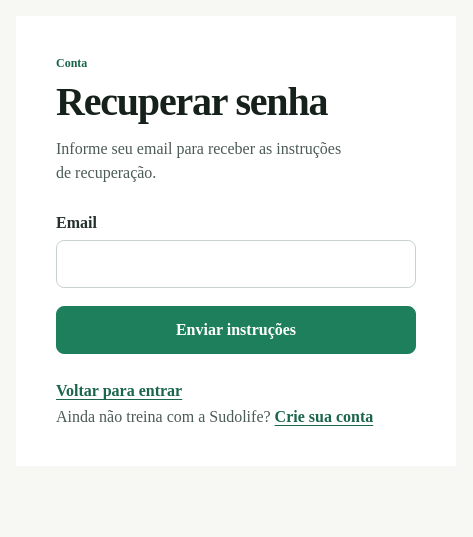
Test: PasswordRecoveryRequestComponent › should_not_show_account_existence_message_when_request_fails
Step 1. Type "missing@sudolife.com" into the field named "email" → x=236, y=264, box [56,240,416,288]
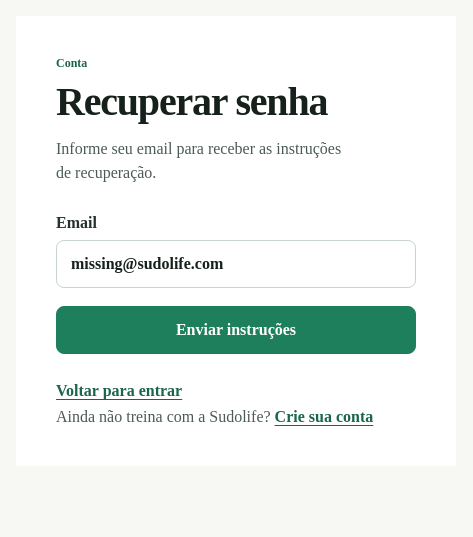
Step 2. Submit the form, box [56,214,416,354]
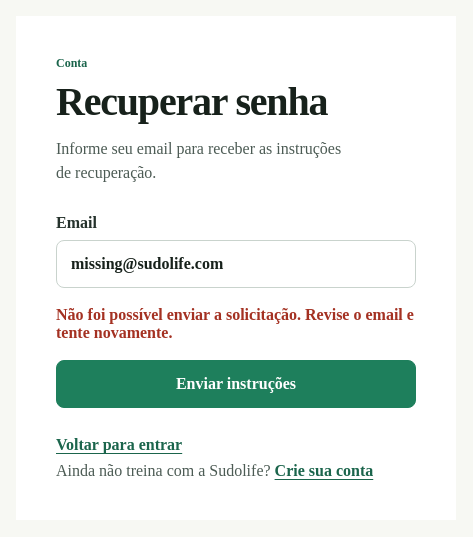
Expected: the text "Não foi possível enviar a solicitação" is shown, [56,306,414,341]
